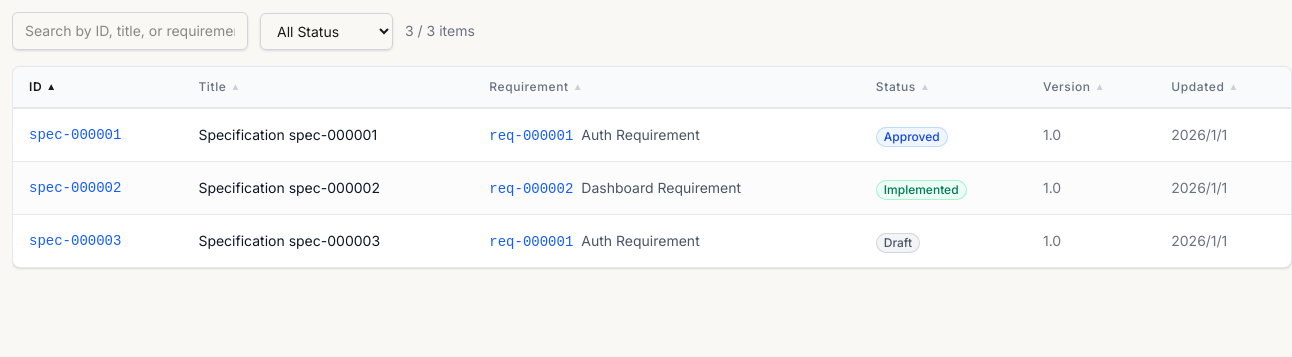
SpecificationTable - 空状態UI › リセットボタンクリックでフィルタが解除され全件表示に戻る
Type "nonexistent-xyz-abc" into the field. click: (130, 31)
box: 12,12 -> 248,50
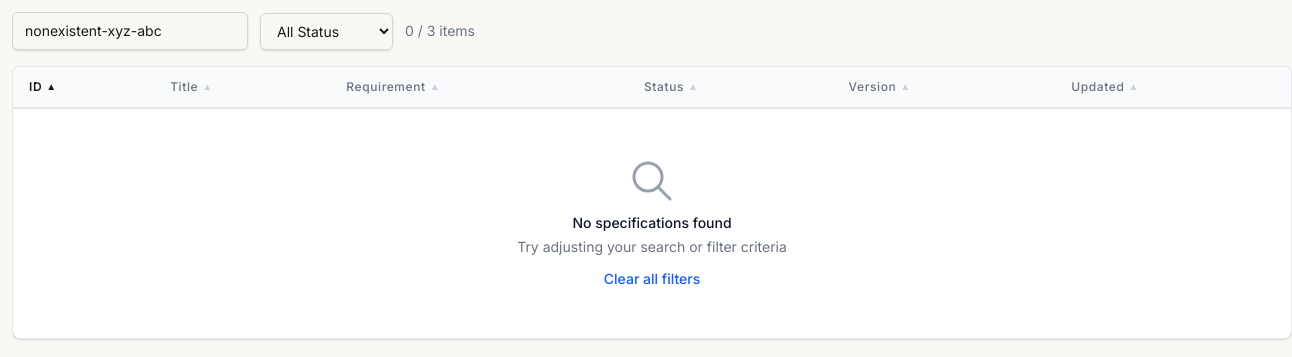
Click the button "Clear all filters". click: (652, 279)
box: 604,269 -> 700,289
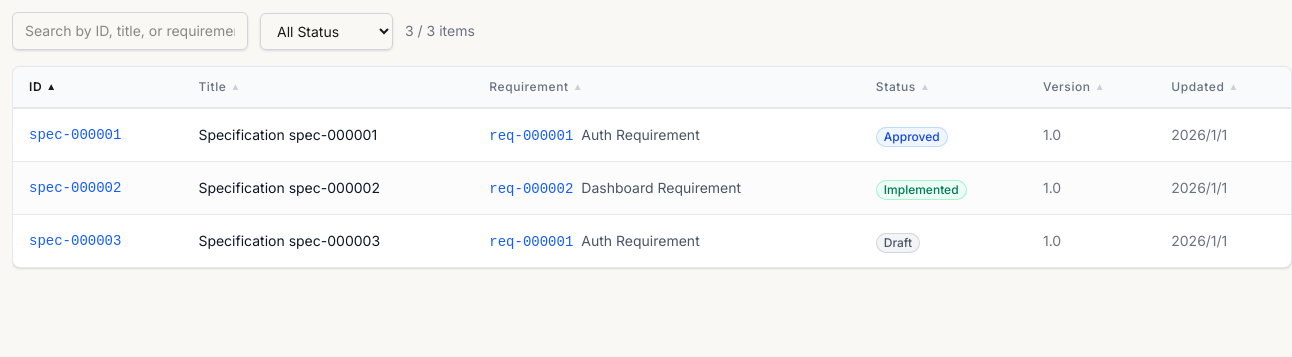
Expected: the text "No specifications found" is gone
Expected: the link "Specification spec-000001" is shown, 198,126 -> 377,143
